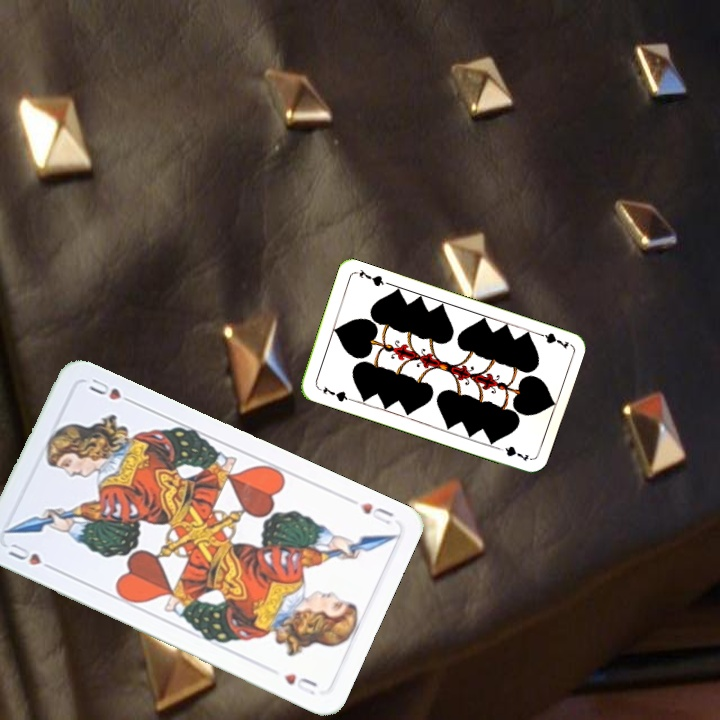G7: (531, 328, 571, 352), (314, 382, 353, 404)
HU: (4, 539, 59, 574), (356, 498, 396, 527)
